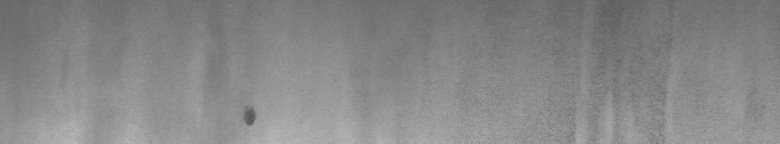fi: (240, 100, 260, 132)
